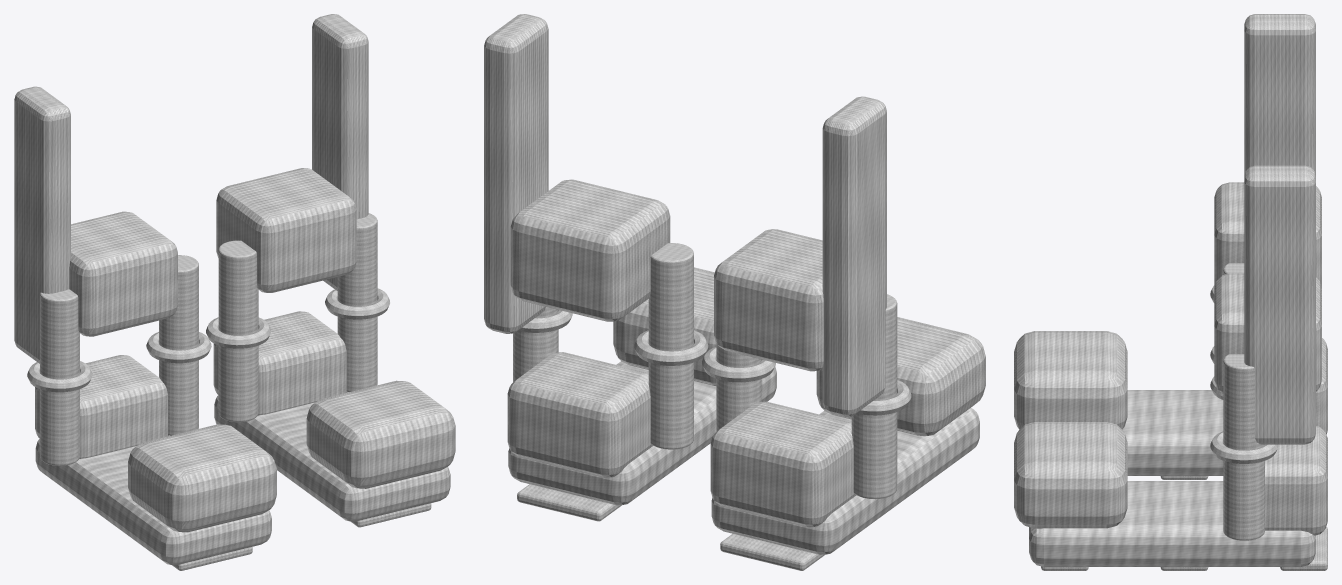
Rendered from blade_runners_variant_a.glb.
3 renders of one model, left to right at view 1: azimuth 30°, elevation 25°; view 2: azimuth 150°, elevation 25°; view 3: azimuth 270°, elevation 25°, orthographic. The views are drawn at different scales.
Visible parts, largest first — view 1: Ankle cuff.002, Outer support strut, Toe armor.001, Toe armor, Ankle cuff.001, Outer support strut.001, Boot sole.001, Boot sole.002, Heel block.001, Heel block, Impact damper.002, Impact damper (+8 smaller); view 2: Outer support strut, Ankle cuff.002, Outer support strut.001, Heel block.001, Heel block, Ankle cuff.001, Boot sole.001, Toe armor, Impact damper.002, Boot sole.002, Impact damper, Toe armor.001 (+8 smaller); view 3: Outer support strut.001, Boot sole.002, Toe armor.001, Outer support strut, Toe armor, Boot sole.001, Impact damper.003, Heel block.001, Ankle cuff.002, Ankle cuff.001, Damper collar, Heel block (+1 smaller).
Boxes of the visible parts, box(x1,y1,x2,y2) form: Ankle cuff.002: box(216, 168, 356, 292); Outer support strut: box(14, 86, 70, 363); Toe armor.001: box(306, 380, 455, 488); Toe armor: box(128, 424, 276, 532); Ankle cuff.001: box(69, 211, 177, 336); Outer support strut.001: box(312, 14, 368, 290); Boot sole.001: box(35, 438, 271, 565); Boot sole.002: box(214, 392, 450, 521); Heel block.001: box(213, 311, 347, 415); Heel block: box(35, 355, 168, 458); Impact damper.002: box(218, 240, 258, 422); Impact damper: box(40, 289, 79, 465); Outer support strut: box(822, 96, 886, 416); Ankle cuff.002: box(510, 179, 670, 321); Outer support strut.001: box(484, 14, 548, 333); Heel block.001: box(507, 352, 653, 477); Heel block: box(710, 401, 856, 527); Ankle cuff.001: box(714, 229, 823, 371); Boot sole.001: box(711, 408, 979, 554); Toe armor: box(816, 317, 985, 436); Impact damper.002: box(648, 243, 693, 449); Boot sole.002: box(508, 361, 776, 505); Impact damper: box(851, 294, 897, 499); Toe armor.001: box(613, 267, 716, 385); Outer support strut.001: box(1244, 165, 1315, 444); Boot sole.002: box(1029, 481, 1315, 566); Toe armor.001: box(1014, 422, 1127, 528); Outer support strut: box(1244, 14, 1315, 175); Toe armor: box(1014, 331, 1127, 429); Boot sole.001: box(1122, 390, 1223, 475); Impact damper.003: box(1223, 354, 1264, 540); Heel block.001: box(1265, 426, 1327, 535); Ankle cuff.002: box(1214, 273, 1321, 393); Ankle cuff.001: box(1214, 182, 1321, 287); Damper collar: box(1210, 431, 1278, 463); Heel block: box(1316, 338, 1327, 434).
Size of what is drawn, in the model's own units: 0.714 by 0.764 by 0.525.
6 materials, 6 textured.
